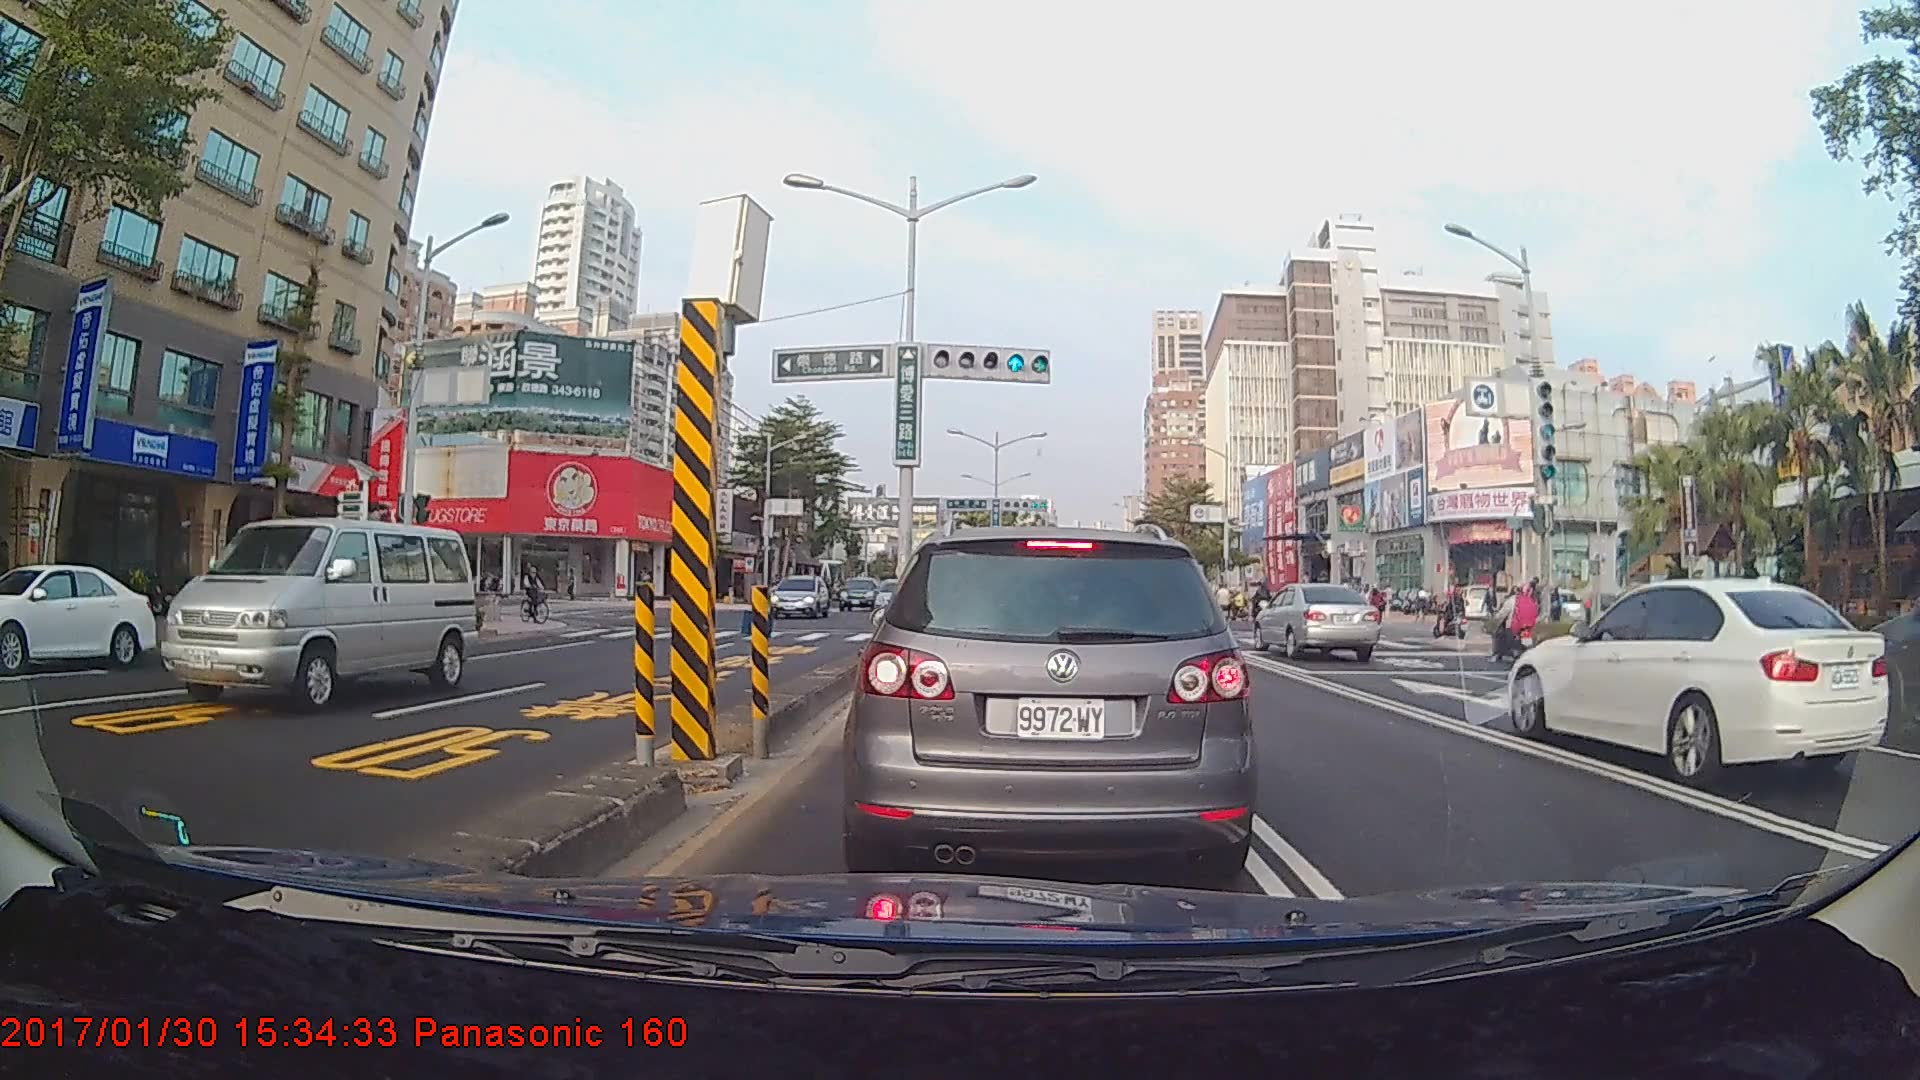rider: (1485, 582, 1548, 668), (518, 559, 561, 629), (1436, 582, 1473, 646)
vehicle: (854, 523, 1252, 874), (1505, 576, 1889, 790), (158, 516, 479, 714), (0, 561, 157, 671), (1250, 582, 1381, 660), (766, 574, 829, 618)
